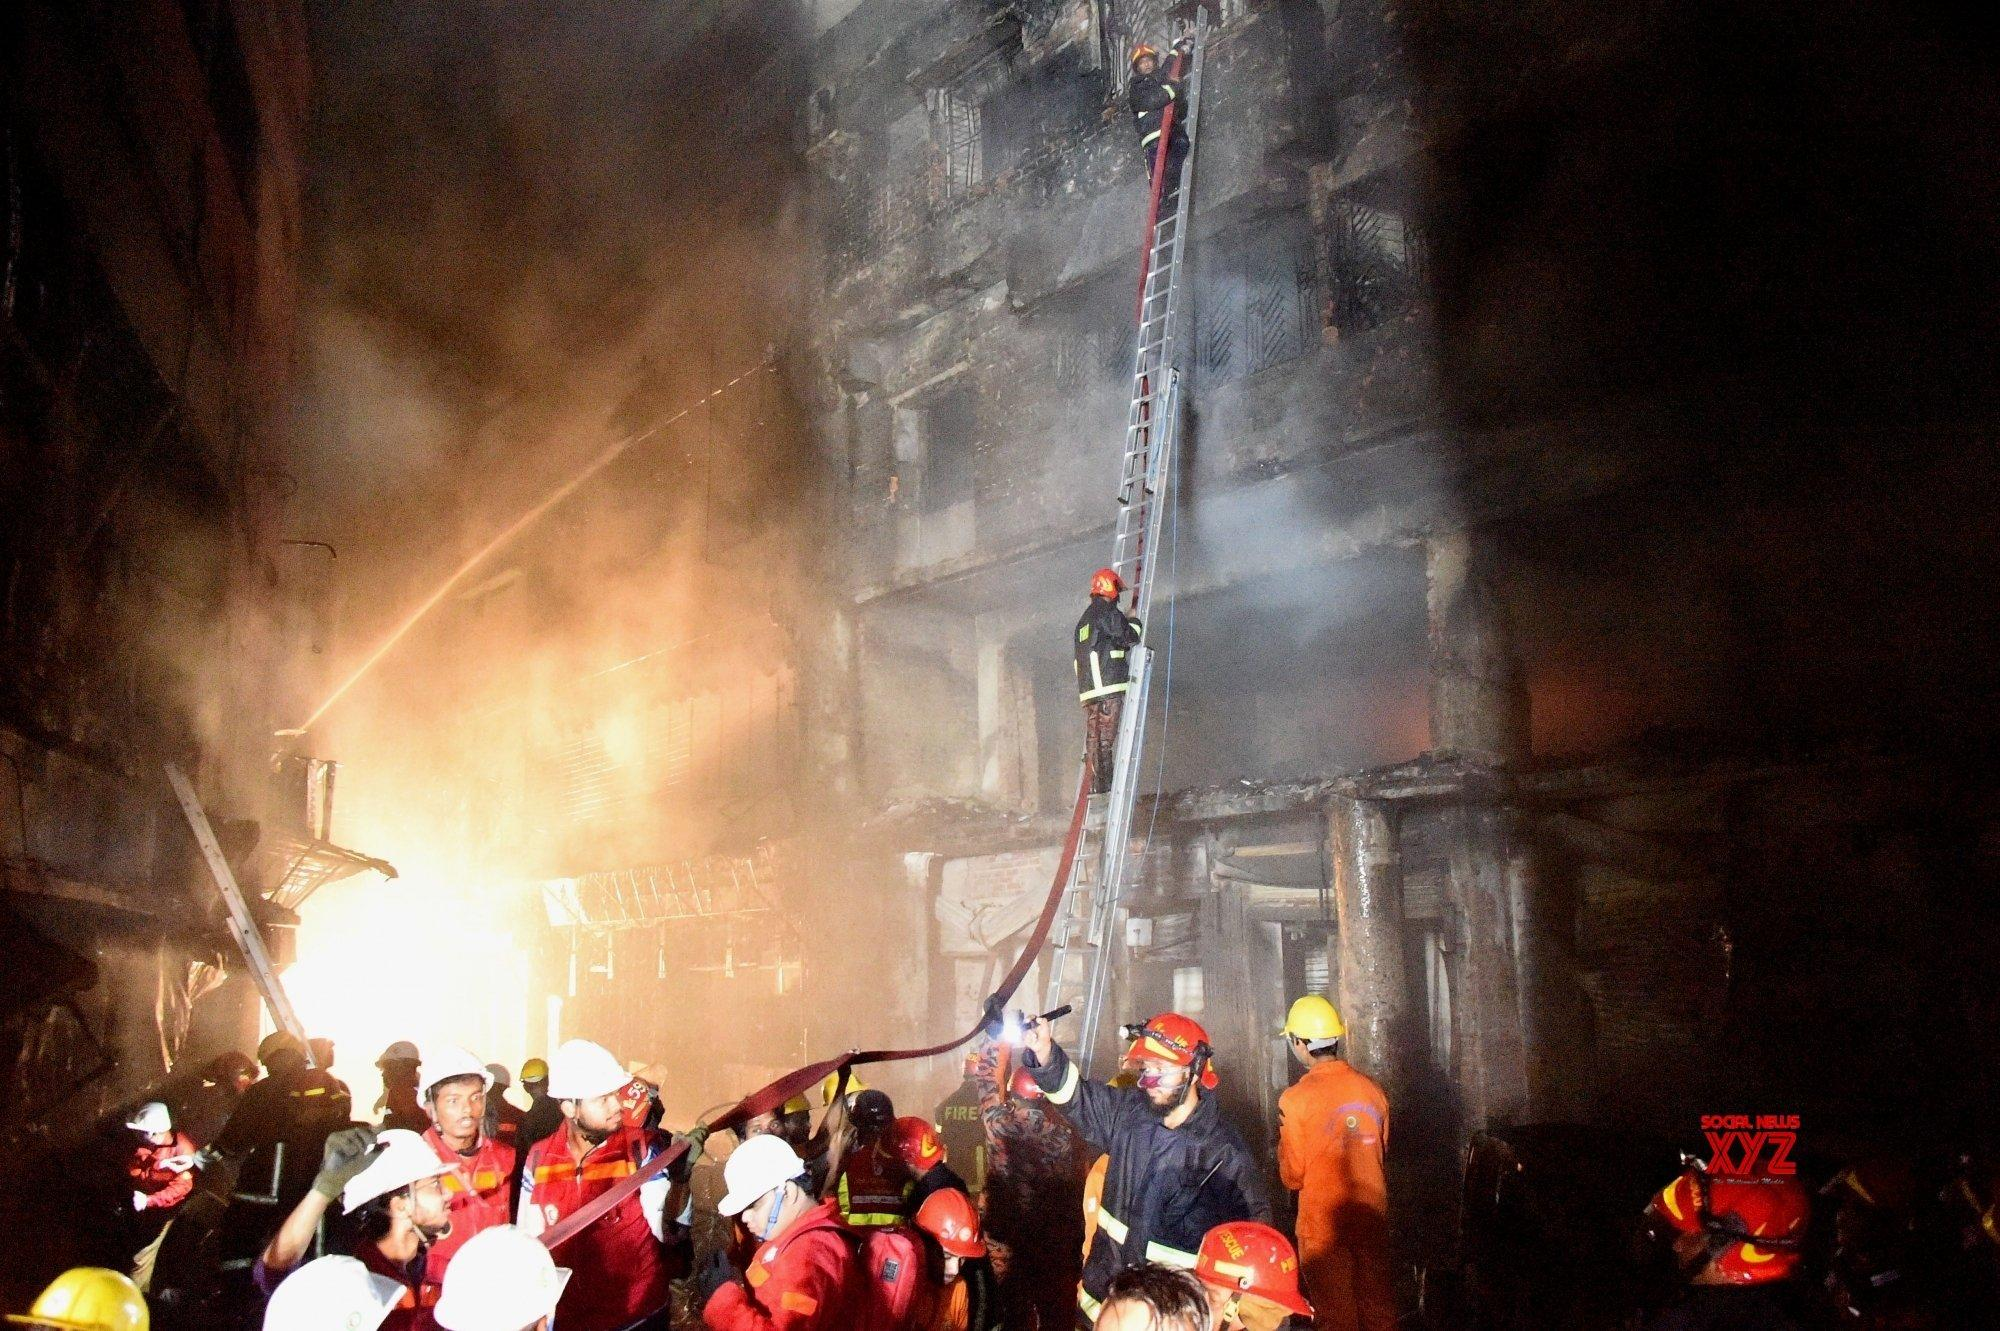Fire: (214, 720, 578, 1113)
